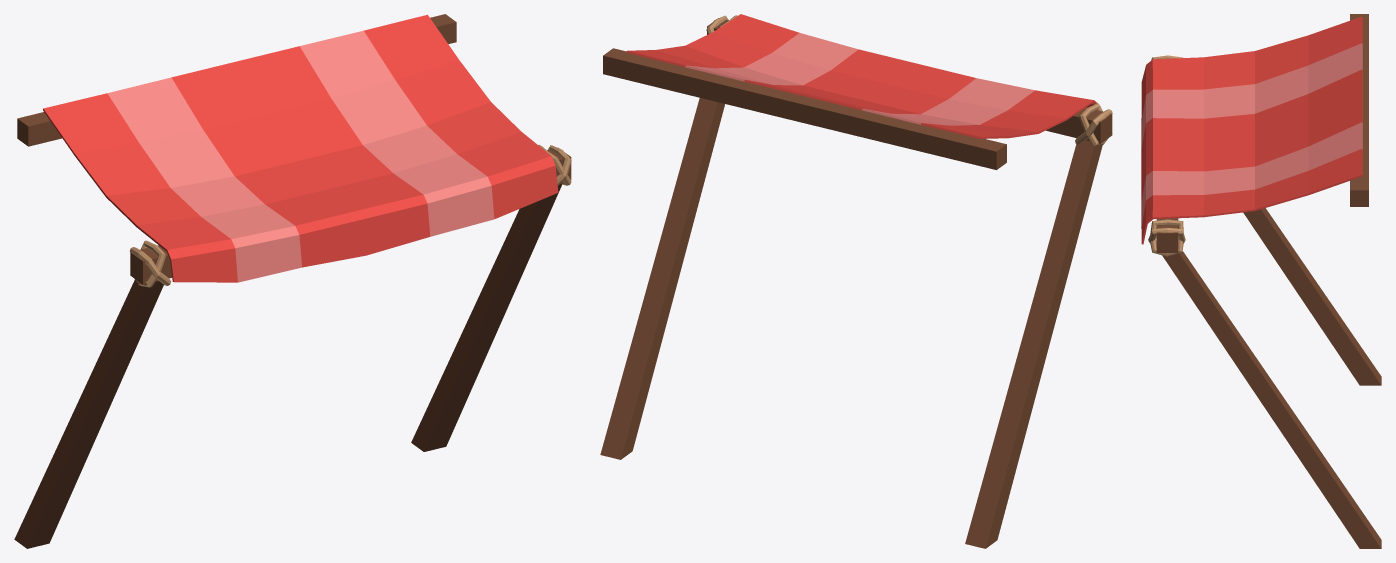
The model's file is Tent_05.fbx.
3 renders of one model, left to right at view 1: azimuth 30°, elevation 25°; view 2: azimuth 150°, elevation 25°; view 3: azimuth 270°, elevation 25°, orthographic. The views are drawn at different scales.
Visible parts, largest first — view 1: Tent_05; view 2: Tent_05; view 3: Tent_05.
Part boxes in pixels (x1,y1,x2,y2): Tent_05: (14, 14, 571, 548); Tent_05: (600, 14, 1112, 548); Tent_05: (1141, 14, 1381, 548).
Bounding box in the file's own units: 120 × 116 × 68.99.
